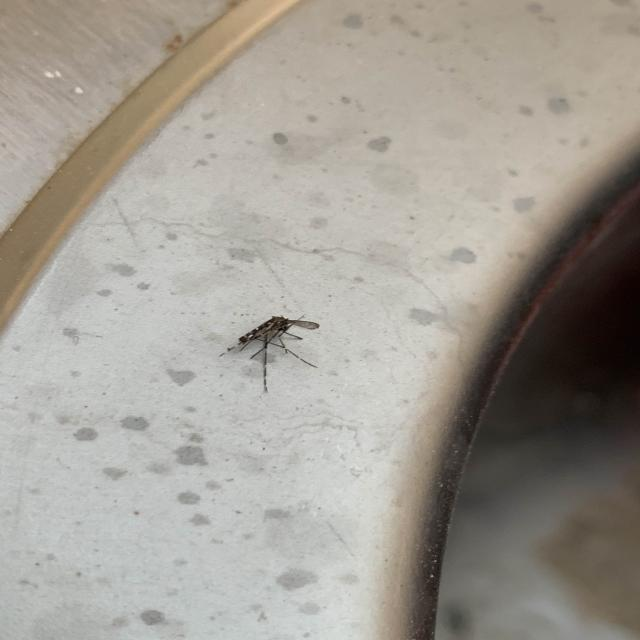albopictus: (212, 306, 327, 394)
